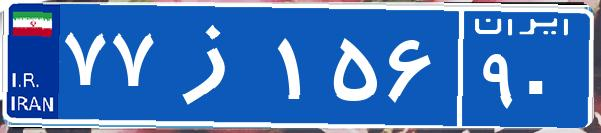0: (525, 38, 570, 115)
1: (273, 28, 330, 110)
5: (330, 28, 385, 110)
6: (385, 28, 445, 110)
7: (57, 26, 110, 107), (110, 28, 158, 105)
9: (475, 38, 525, 113)
ز: (158, 15, 273, 115)
